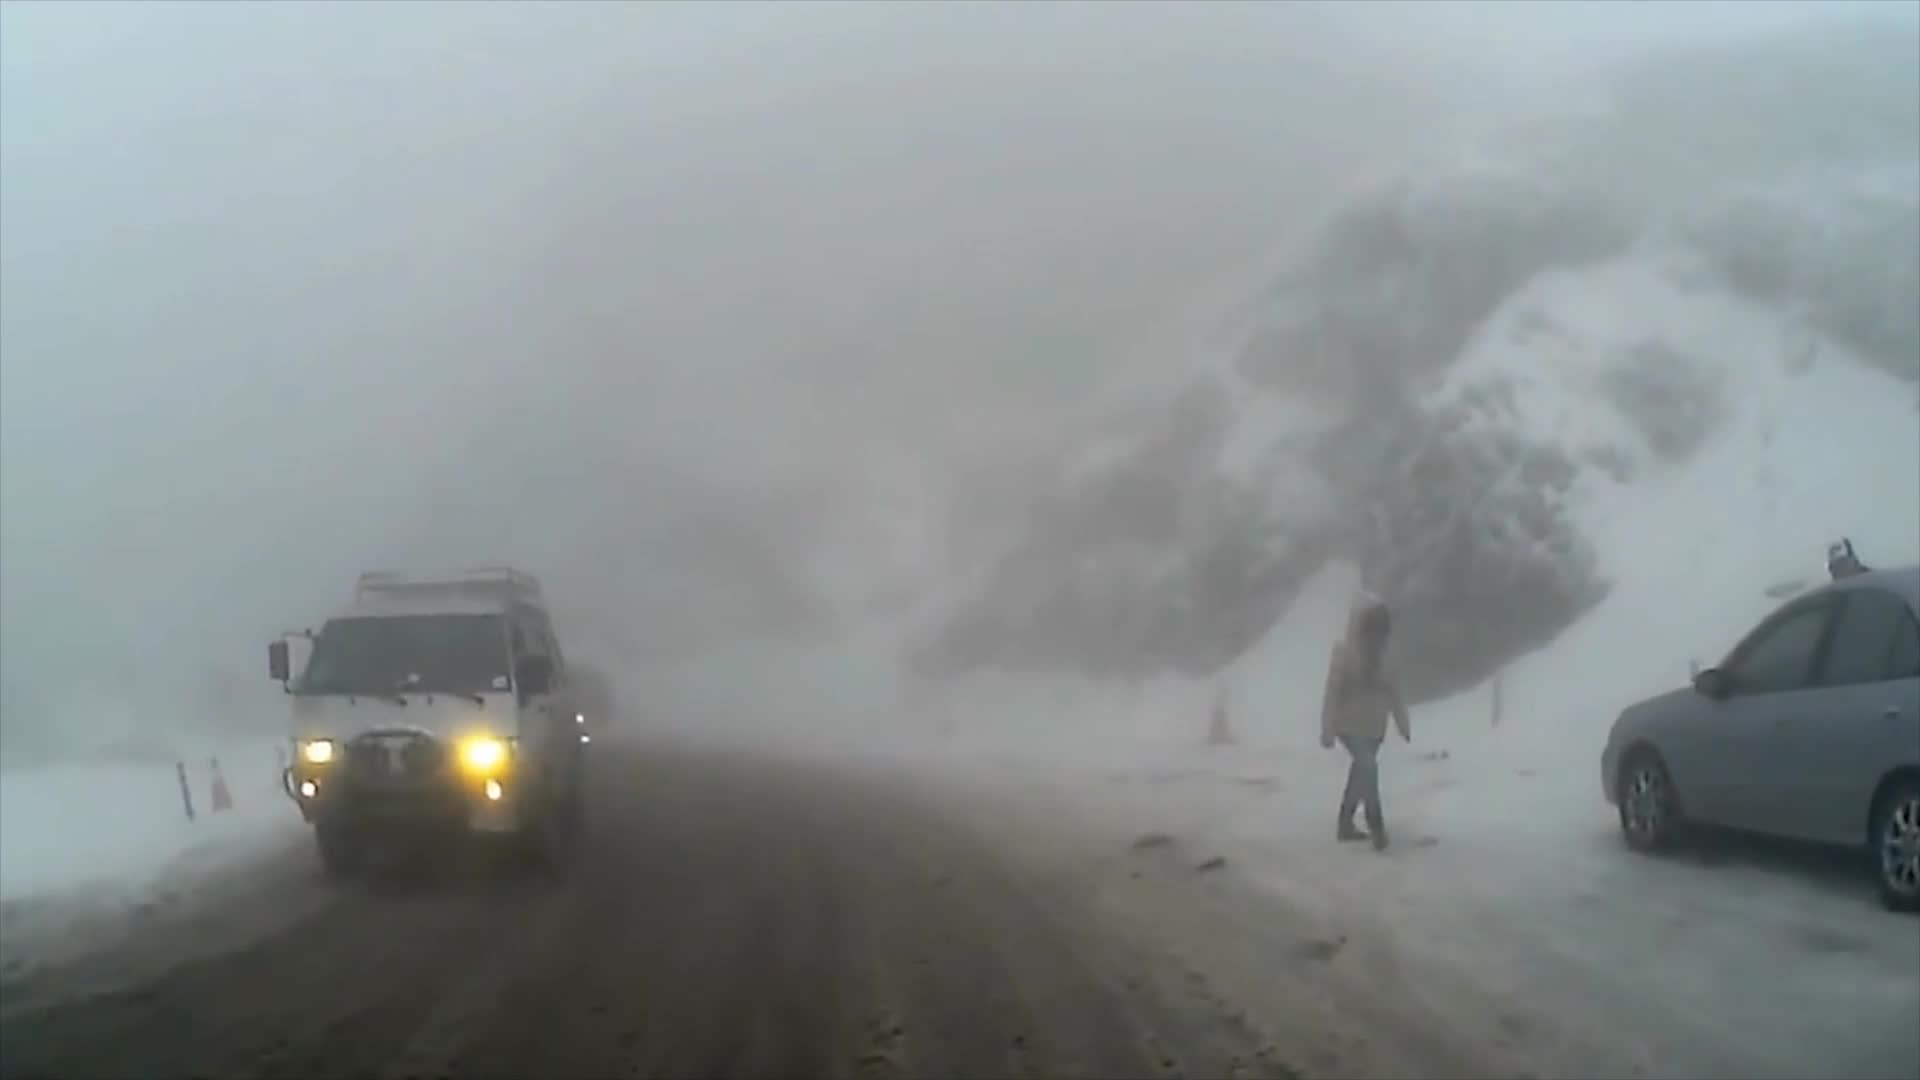pedestrian: (1319, 580, 1412, 855)
vehicle: (1597, 568, 1920, 917), (254, 561, 583, 885)
